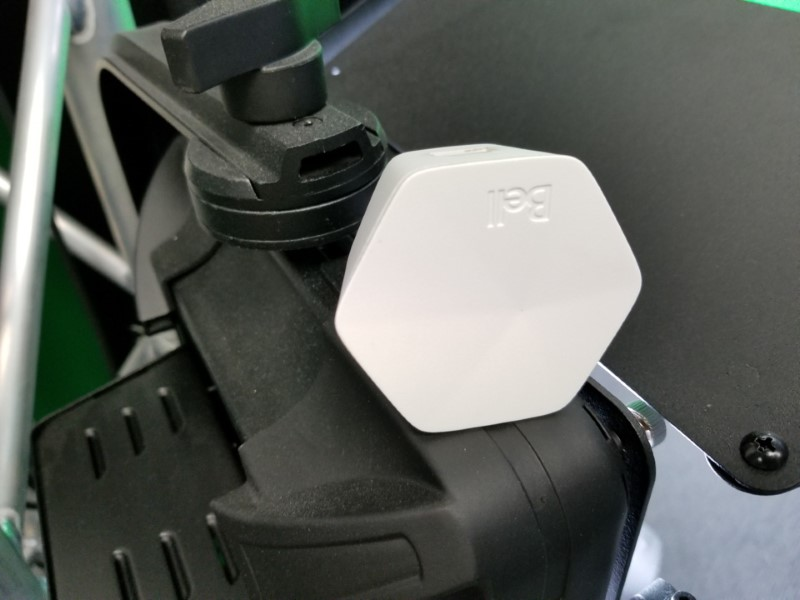pod: (314, 132, 656, 440)
